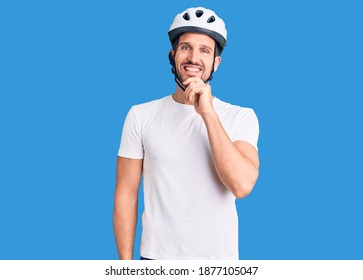helmet: (168, 6, 227, 90)
